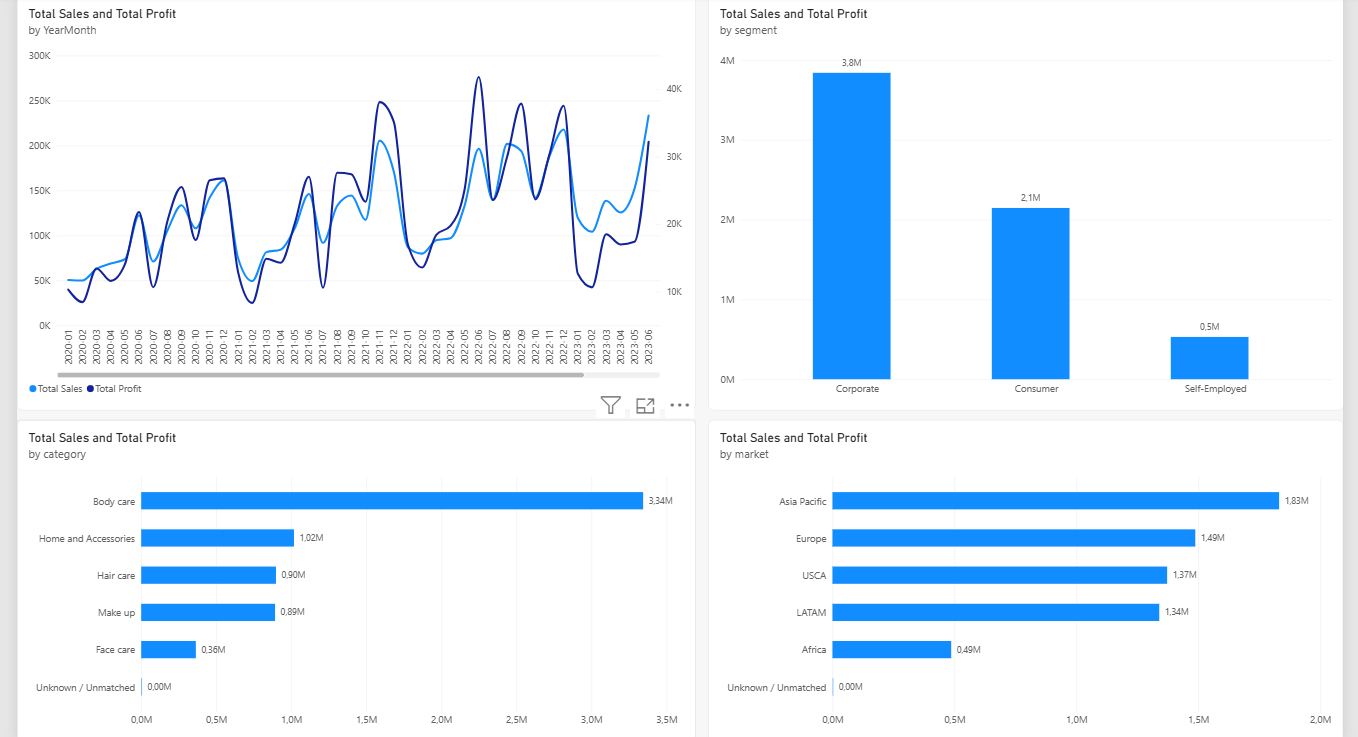

What the dashboard file says about the page in this screenshot:
{"tool":"powerbi","page":{"name":"Page 1 - Total Sales","canvas":[1920,1080],"ordinal":0},"visuals":[{"type":"lineChart","fields":{"Category":["DimDate.YearMonth"],"Y":["FactSales.Total Sales"],"Y2":["FactSales.Total Profit"]},"box":[0,0,982,600],"z":0},{"type":"clusteredBarChart","fields":{"Category":["DimProduct.category"],"Y":["FactSales.Total Sales"]},"box":[0,613.5,982.6,466.9],"z":1000},{"type":"clusteredColumnChart","fields":{"Category":["FactSales.segment"],"Y":["FactSales.Total Sales"]},"box":[1000,0,920,600],"z":2000},{"type":"clusteredBarChart","fields":{"Category":["DimRegion.market"],"Y":["FactSales.Total Sales"]},"box":[1000.7,613.5,919.3,466.9],"z":3000}]}

Visuals, with their boxes on the page's 1920x1080 design canvas (x1, y1, x2, y2). These are canvas units, not pixel positions in the 1358x737 screenshot, which may show the page scaled, cropped or inside an application window:
lineChart - DimDate.YearMonth x FactSales.Total Sales: locate(0, 0, 982, 600)
clusteredBarChart - DimProduct.category x FactSales.Total Sales: locate(0, 614, 983, 1080)
clusteredColumnChart - FactSales.segment x FactSales.Total Sales: locate(1000, 0, 1920, 600)
clusteredBarChart - DimRegion.market x FactSales.Total Sales: locate(1001, 614, 1920, 1080)
